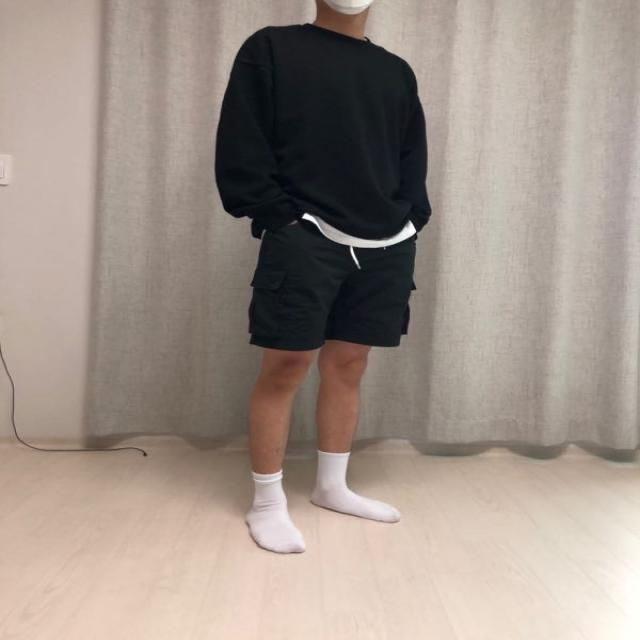mtm: (215, 22, 434, 238)
shortpants: (247, 216, 416, 350)
